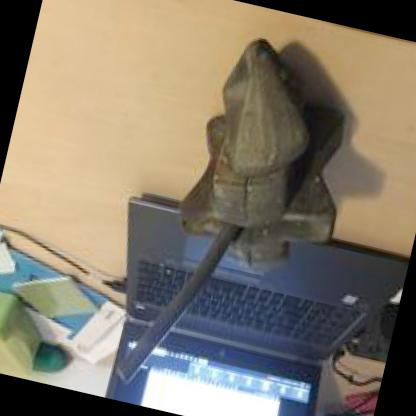Twistlock: (150, 29, 377, 293)
